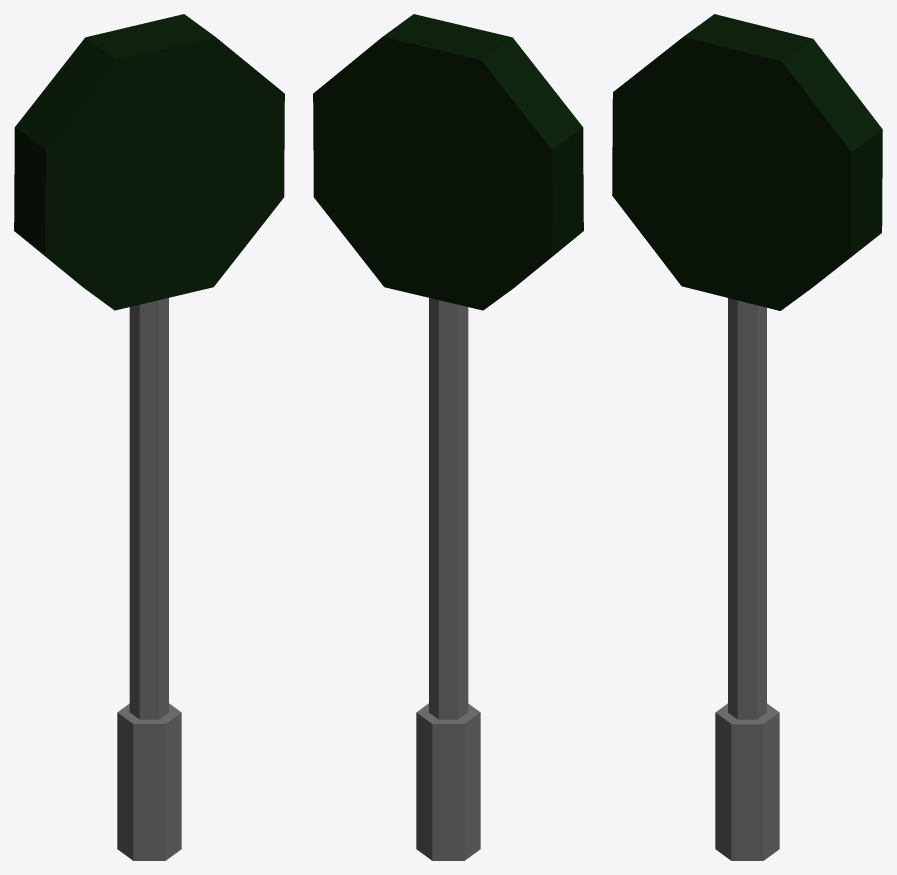
File: SignBoard_03.obj
3 views of the same model, side by side, from view 1: azimuth 30°, elevation 25°; view 2: azimuth 150°, elevation 25°; view 3: azimuth 330°, elevation 25° (orthographic).
Parts seen in each view (by area): view 1: SignBoard_03_Cylinder.019; view 2: SignBoard_03_Cylinder.019; view 3: SignBoard_03_Cylinder.019.
Part boxes in pixels (x1,y1,x2,y2): SignBoard_03_Cylinder.019: (14,14,284,860); SignBoard_03_Cylinder.019: (313,14,583,860); SignBoard_03_Cylinder.019: (612,14,882,860).
Bounding box in the file's own units: 4.76 × 15.42 × 1.1.
